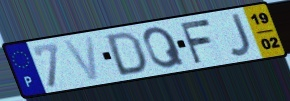7: (30, 41, 63, 89)
D: (105, 30, 149, 77)
F: (177, 17, 213, 66)
J: (228, 11, 254, 58)
Q: (142, 25, 188, 70)
V: (61, 34, 102, 82)
